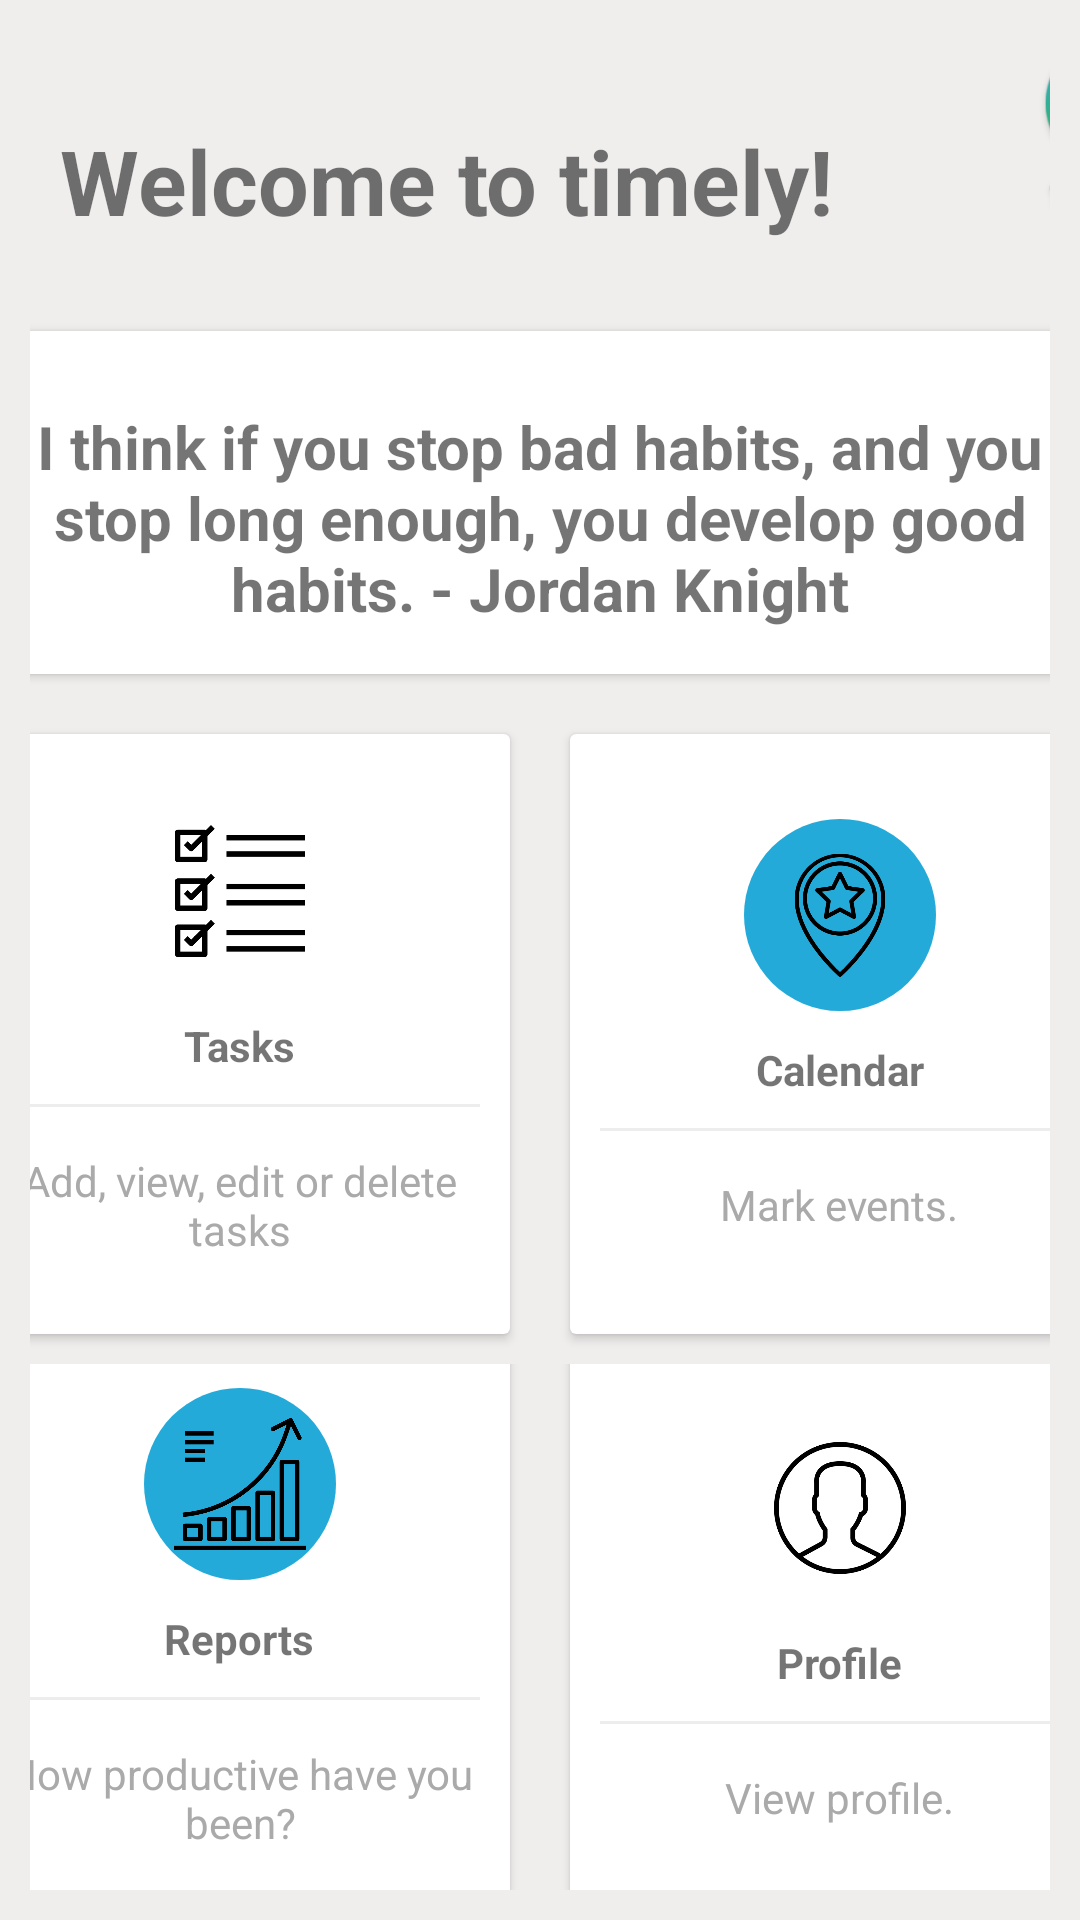

Where icons sit on this 1080x1920 app screen, as {"x1": x1, "y1": y1, "x2": x2, "y2": y2}:
checklist: {"x1": 175, "y1": 825, "x2": 305, "y2": 957}
diagram: {"x1": 144, "y1": 1388, "x2": 336, "y2": 1580}
user: {"x1": 774, "y1": 1442, "x2": 906, "y2": 1574}
